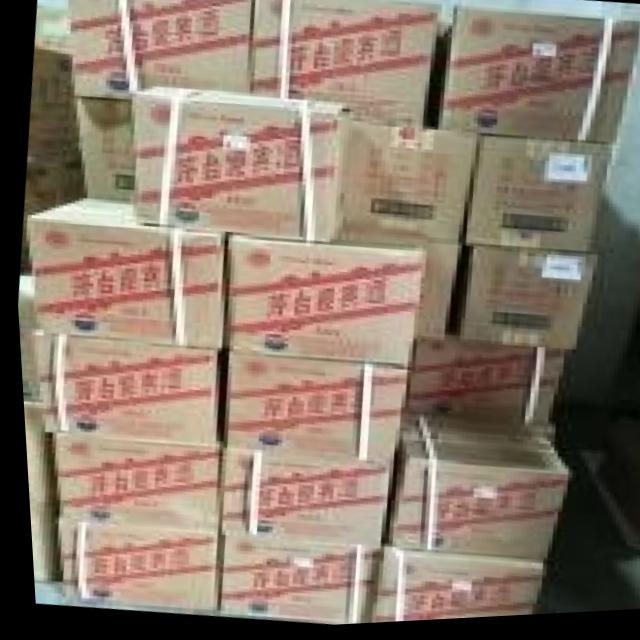box: (135, 88, 355, 245), (24, 196, 221, 350), (424, 10, 639, 149), (225, 237, 427, 371), (248, 0, 441, 130), (381, 443, 561, 563), (217, 356, 406, 466), (68, 0, 255, 103), (51, 334, 217, 449), (458, 141, 610, 257), (214, 452, 387, 552), (51, 433, 217, 537), (338, 125, 474, 247), (52, 520, 214, 615), (455, 253, 597, 356), (403, 339, 559, 432), (212, 539, 373, 628), (360, 550, 539, 627), (338, 237, 454, 345), (25, 34, 79, 161), (76, 102, 130, 203), (393, 423, 548, 456), (21, 156, 80, 212), (19, 406, 45, 502), (23, 501, 47, 583), (31, 335, 51, 432), (15, 275, 32, 384)
